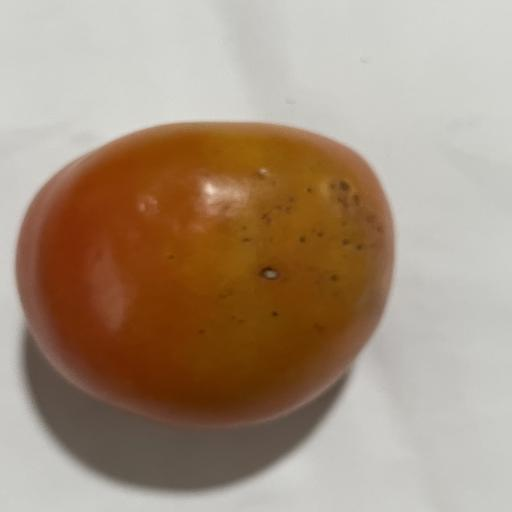ripe: (17, 123, 393, 427)
